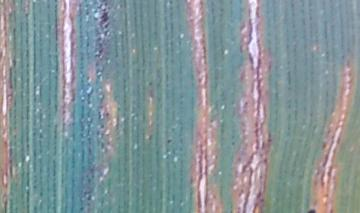tarspot: (303, 204, 320, 213)
